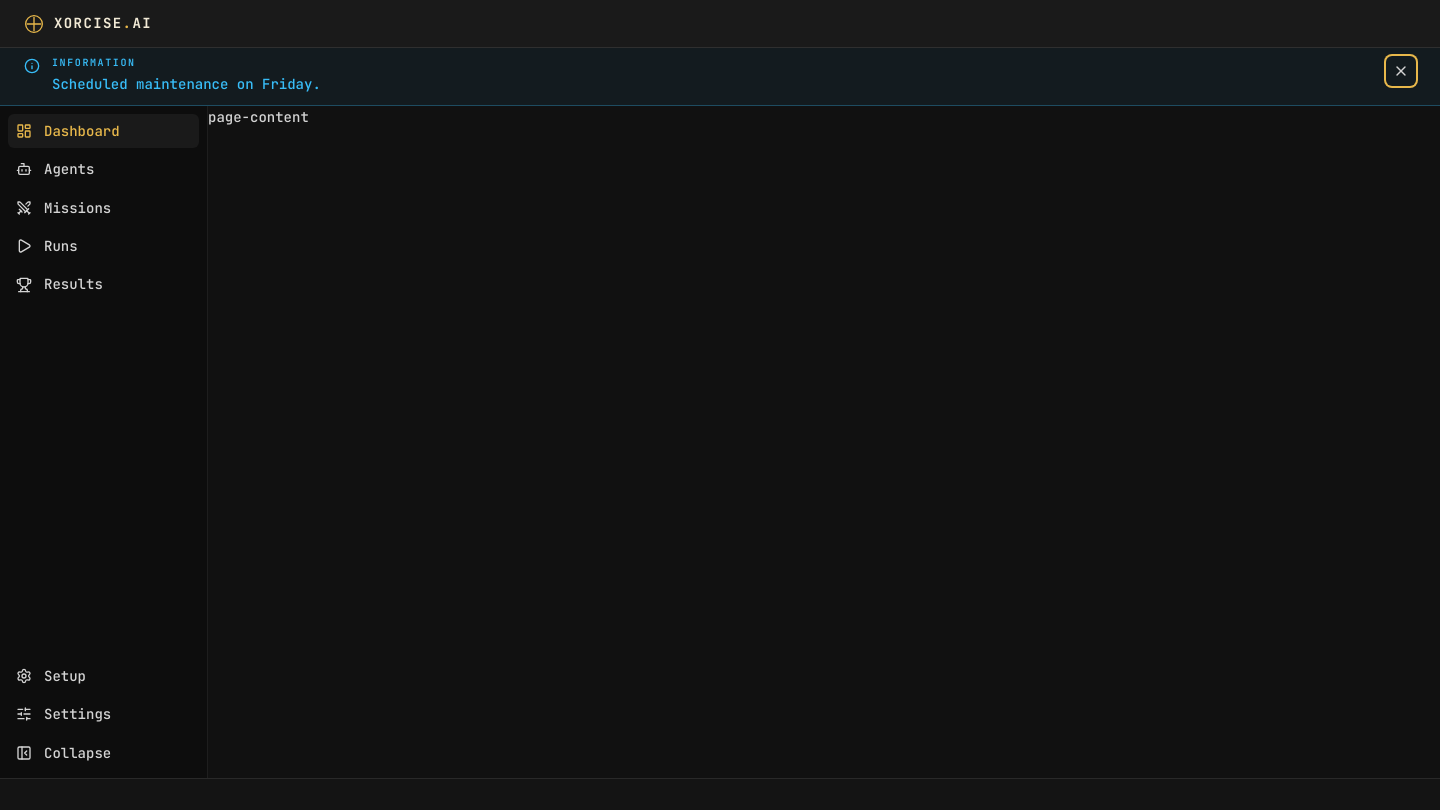
Test case: ApplicationAnnouncement in the app shell › hands focus to the main landmark when the close button unmounts
Step 1. Click the button named "Dismiss announcement" → (1401, 71), box [1386,56,1416,86]
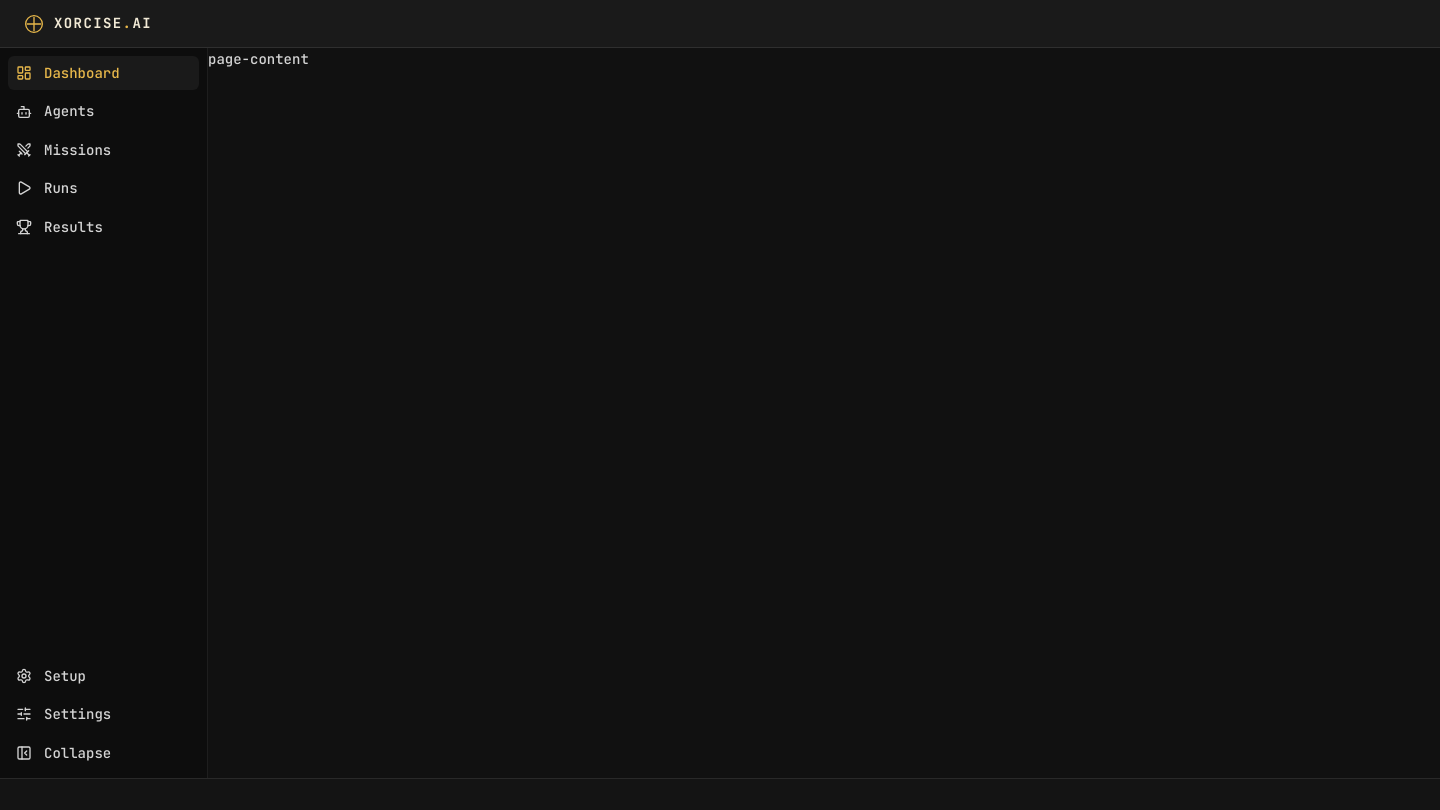
Expected: the message with test id "announcement-banner-application" is gone
